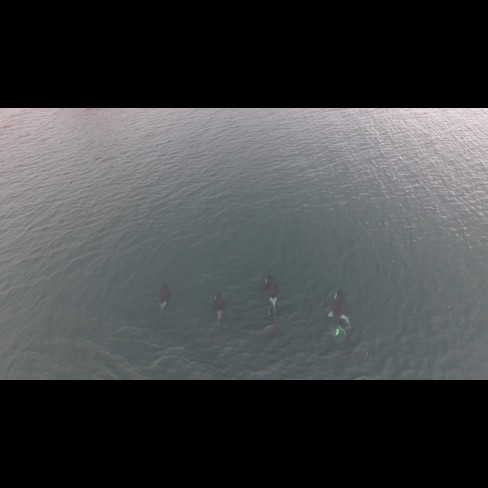orca: (327, 284, 358, 348), (259, 270, 287, 335), (146, 276, 178, 329), (208, 287, 228, 341)
